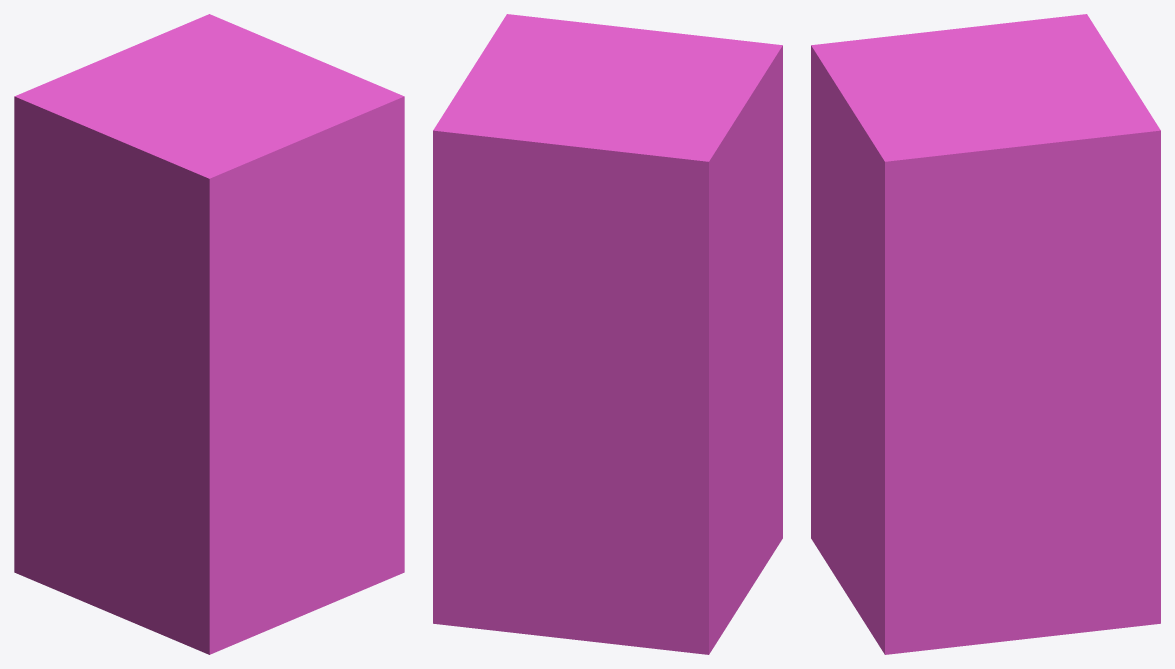
3 views of the same model, side by side, from view 1: azimuth 30°, elevation 25°; view 2: azimuth 150°, elevation 25°; view 3: azimuth 270°, elevation 25° (orthographic). The views are drawn at different scales.
Visible parts, largest first — view 1: 1????B1021; view 2: 1????B1021; view 3: 1????B1021.
Part boxes in pixels (box(x1,y1,x2,y2)): 1????B1021: box(14, 14, 404, 654); 1????B1021: box(433, 14, 782, 654); 1????B1021: box(811, 14, 1160, 654).
Bounding box in the file's own units: 2.57 × 4 × 2.57.
